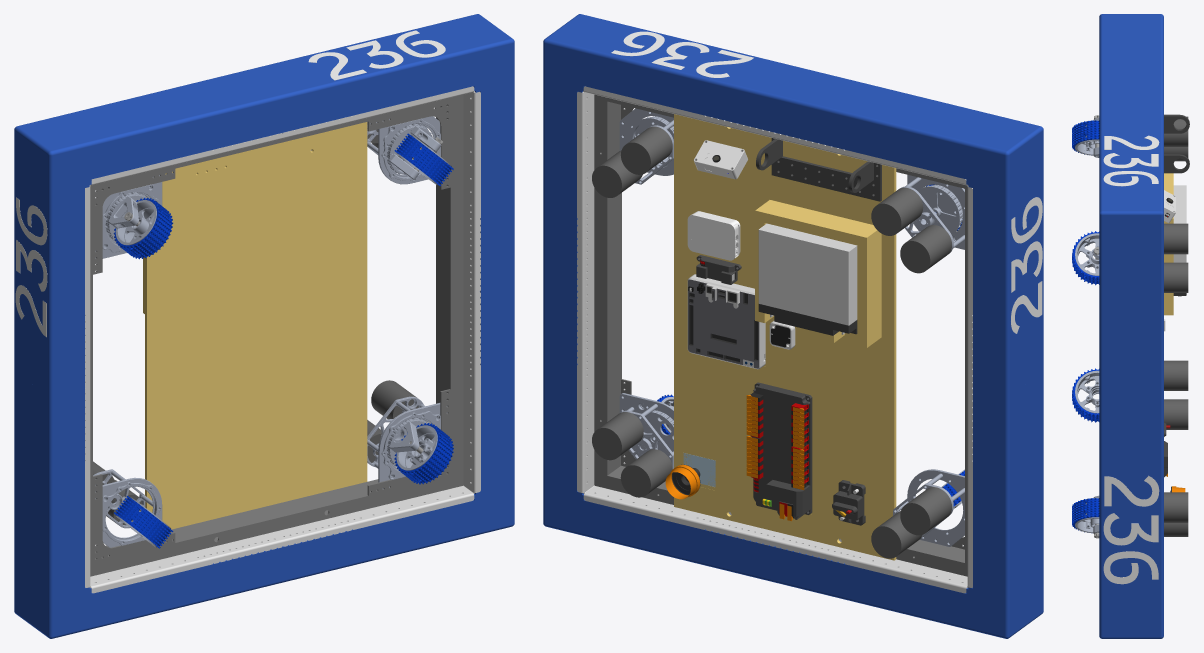
The picture shows the model from 3 angles, left to right: view 1: azimuth 30°, elevation 25°; view 2: azimuth 150°, elevation 25°; view 3: azimuth 270°, elevation 25°; orthographic projection. The views are drawn at different scales.
Parts seen in each view (by area): view 1: SWYFT Bumper Corner Foam (×4), Hardware Board, SWYFT Bumper Corner Bracket (×4), Back Tube 2"x1"x30", Left Tube 2"x1"x28", MK3 Plates_Both Plates With Chamfers (×4), Tread, Blue Nitrile 4in X 1.5in (×4), Mod 3 Connection Bracket, Mod 4 Connection Bracket, Mod 1 Connection Bracket, Mod 2 Connection Bracket, Wheel, SDS, Nitrile Tread, 4in X 1.5in, Bearing Bore (×2) (+3 smaller); view 2: SWYFT Bumper Corner Foam (×4), Hardware Board, SWYFT Bumper Corner Bracket (×4), X60 (×8), Robot Battery, Left Tube 2"x1"x28", Simplified PDH, Battery Mount, id55, MK3 Plates_Both Plates With Chamfers (×4), Back Tube 2"x1"x30", MK3 Base Pulley (×2) (+8 smaller); view 3: SWYFT Bumper Corner Foam (×3), X60 (×8), Tread, Blue Nitrile 4in X 1.5in (×4), Wheel, SDS, Nitrile Tread, 4in X 1.5in, Bearing Bore (×4), Team Number 6 (×2), Team Number 3 (×2), Team Number 2 (×2), Robot Battery, Battery Mount, Grabber Connector, Grabber Connector-Mirrored, id27.
Boxes of the visible parts, x1,y1,x2,y2 form: SWYFT Bumper Corner Foam (×4): (14,14,514,638); Hardware Board: (145,122,367,529); SWYFT Bumper Corner Bracket (×4): (85,86,480,593); Back Tube 2"x1"x30": (90,473,463,574); Left Tube 2"x1"x28": (436,99,463,475); MK3 Plates_Both Plates With Chamfers (×4): (95,116,447,547); Tread, Blue Nitrile 4in X 1.5in (×4): (113,133,453,548); Mod 3 Connection Bracket: (367,386,463,504); Mod 4 Connection Bracket: (90,474,175,576); Mod 1 Connection Bracket: (90,165,175,275); Mod 2 Connection Bracket: (367,94,463,189); Wheel, SDS, Nitrile Tread, 4in X 1.5in, Bearing Bore (×2): (115,200,437,470); SWYFT Bumper Corner Foam (×4): (543,14,1043,638); Hardware Board: (674,114,896,560); SWYFT Bumper Corner Bracket (×4): (577,86,972,593); X60 (×8): (592,126,951,558); Robot Battery: (758,223,857,335); Left Tube 2"x1"x28": (594,98,621,475); Simplified PDH: (746,382,812,521); Battery Mount: (755,200,881,347); id55: (687,274,765,369); MK3 Plates_Both Plates With Chamfers (×4): (619,108,964,546); Back Tube 2"x1"x30": (594,465,967,576); MK3 Base Pulley (×2): (633,184,962,460); SWYFT Bumper Corner Foam (×3): (1099,14,1163,638); X60 (×8): (1164,116,1188,536); Tread, Blue Nitrile 4in X 1.5in (×4): (1072,120,1099,533); Wheel, SDS, Nitrile Tread, 4in X 1.5in, Bearing Bore (×4): (1075,120,1099,533); Team Number 6 (×2): (1103,171,1158,584); Team Number 3 (×2): (1103,153,1158,545); Team Number 2 (×2): (1104,135,1159,506); Robot Battery: (1173,185,1186,296); Battery Mount: (1164,173,1173,315); Grabber Connector: (1164,154,1189,173); Grabber Connector-Mirrored: (1164,114,1189,133); id27: (1164,190,1175,223).
Size of the model in its own units: 0.9273 by 0.9273 by 0.2311.
